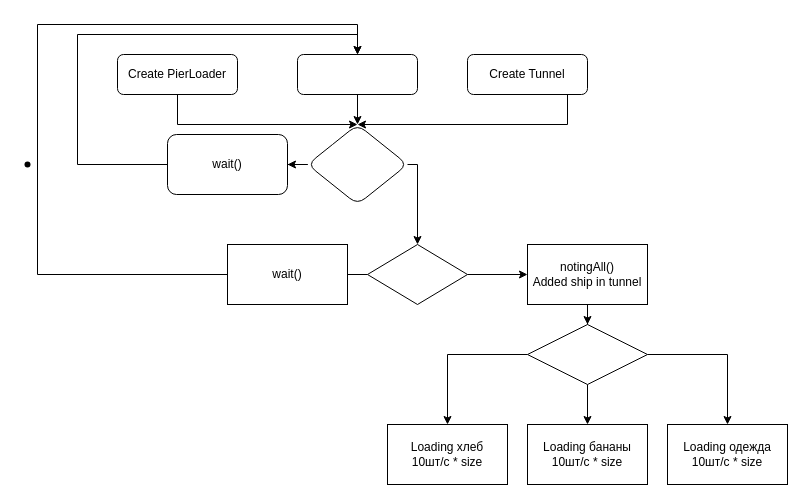
Some shapes in this 805 by 502 pixel diagram are drawn without their labels. The box of each missing label's shape, as (x1, y1, x2, y2) in pixels:
check type and size ship: (526, 324, 648, 384)
Ship.count < 5: (306, 124, 408, 204)
Ship.count > 0: (366, 244, 468, 304)
Создать корабль(Size, type): (296, 54, 418, 94)
